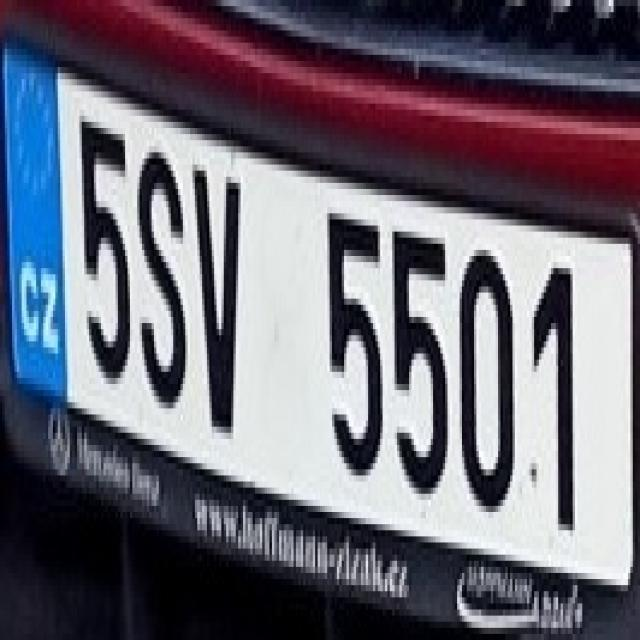0: (448, 232, 520, 512)
1: (520, 243, 582, 524)
5: (315, 195, 390, 482), (62, 103, 134, 384), (380, 213, 452, 494)
S: (122, 128, 192, 408)
V: (178, 140, 250, 427)
